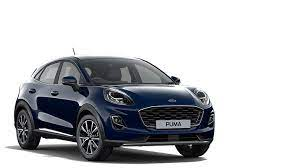Ford: (12, 51, 215, 161)
